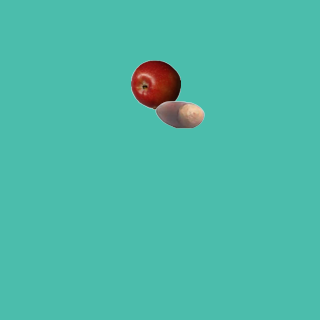Apple Braeburn: (130, 59, 180, 109)
Hazelnut: (154, 89, 204, 139)
